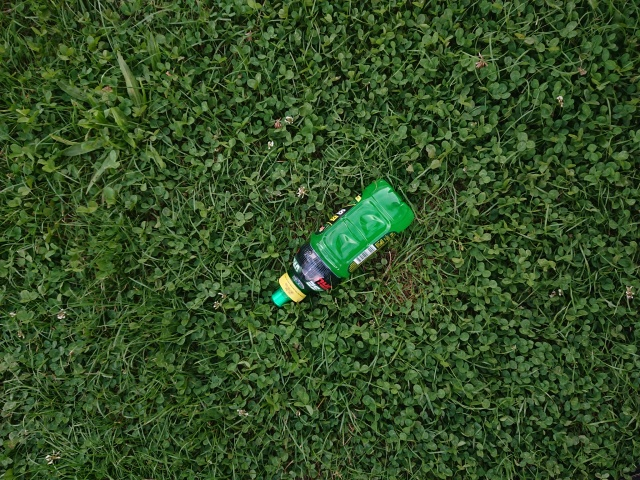Vindi Iso Sport Lemon-Grapefruit 500mL: (268, 176, 418, 310)
